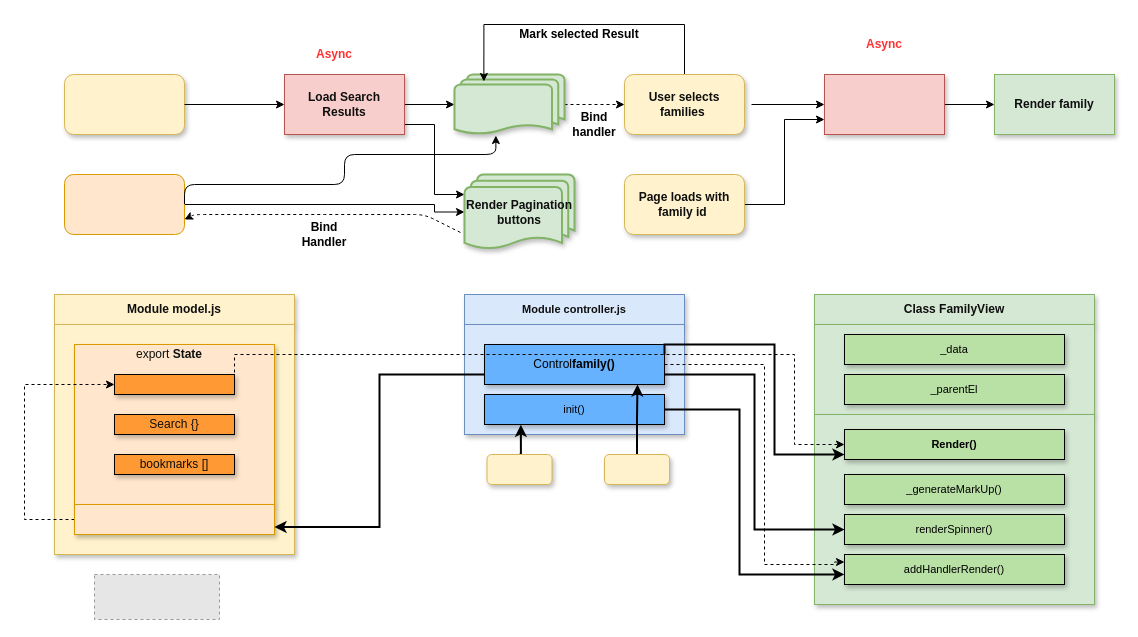
Some shapes in this 1138 by 637 pixel diagram are drawn without their labels. Grey dashed boxes stand in for pictures. Each missing label, with the centre of its shape:
"Family {}" goes at (175,386).
"load family" goes at (885,106).
"program start" goes at (520,471).
"Render Search Results" goes at (510,105).
"report loadfamily()" goes at (175,521).
"User click search result" goes at (638,471).
"User clicks pagination" goes at (124,204).
"User Searches" goes at (125,106).
